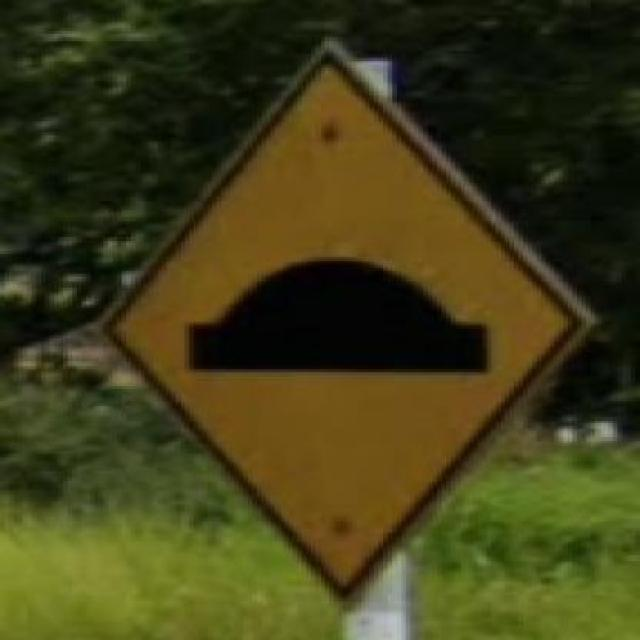Polisi Tidur: (97, 35, 605, 614)
